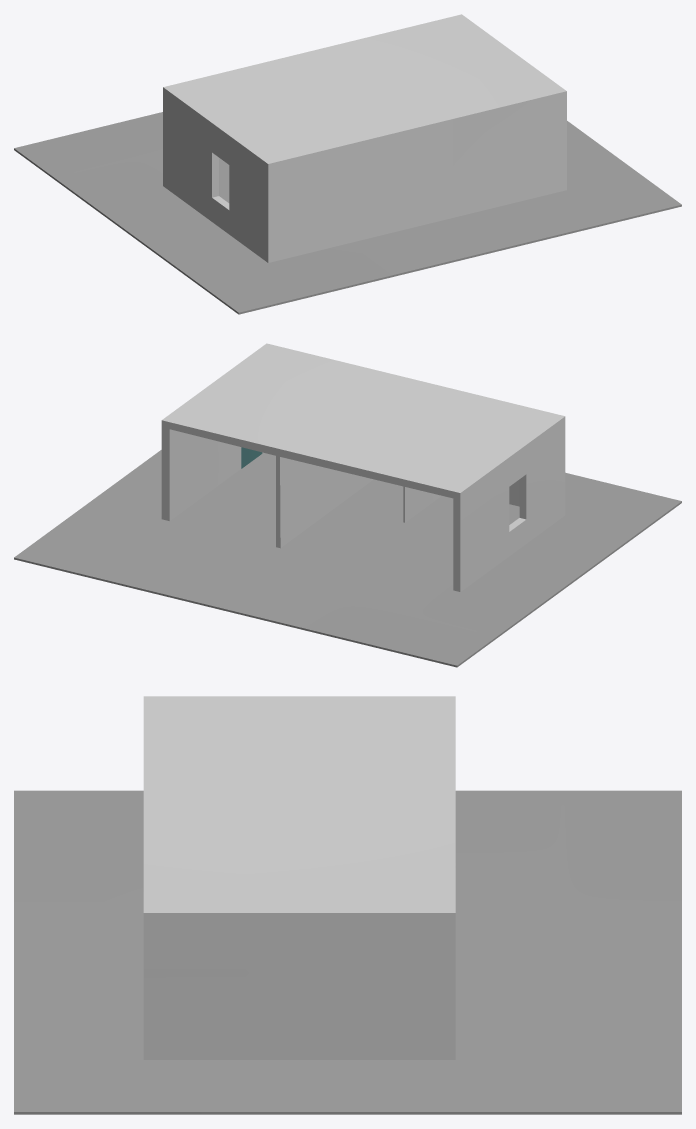
Rendered from SM_LightingScene_01.fbx.
3 renders of one model, top to bottom at view 1: azimuth 30°, elevation 25°; view 2: azimuth 150°, elevation 25°; view 3: azimuth 270°, elevation 25°, orthographic. The views are drawn at different scales.
Parts seen in each view (by area): view 1: Map; view 2: Map; view 3: Map.
Part boxes in pixels (x1=…): Map: x1=14, y1=14, x2=681, y2=314; Map: x1=14, y1=343, x2=681, y2=667; Map: x1=14, y1=696, x2=681, y2=1114.
Bounding box in the file's own units: 24.72 × 21.72 × 5.39.
